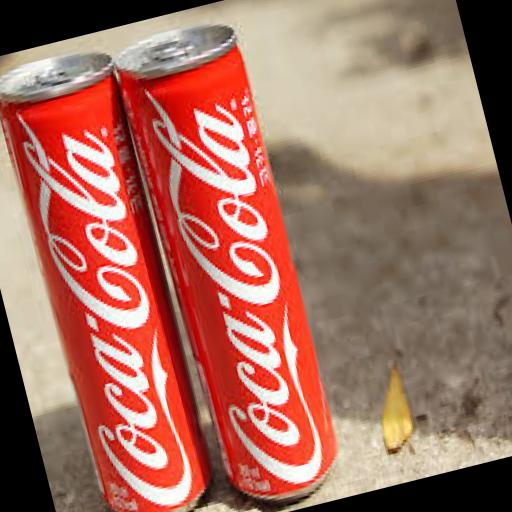Coca: (108, 3, 359, 512), (0, 36, 228, 512)
